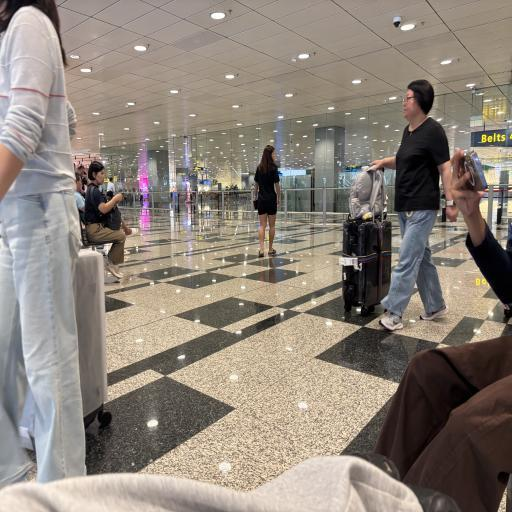person_with_luggage_left: (332, 37, 464, 344)
